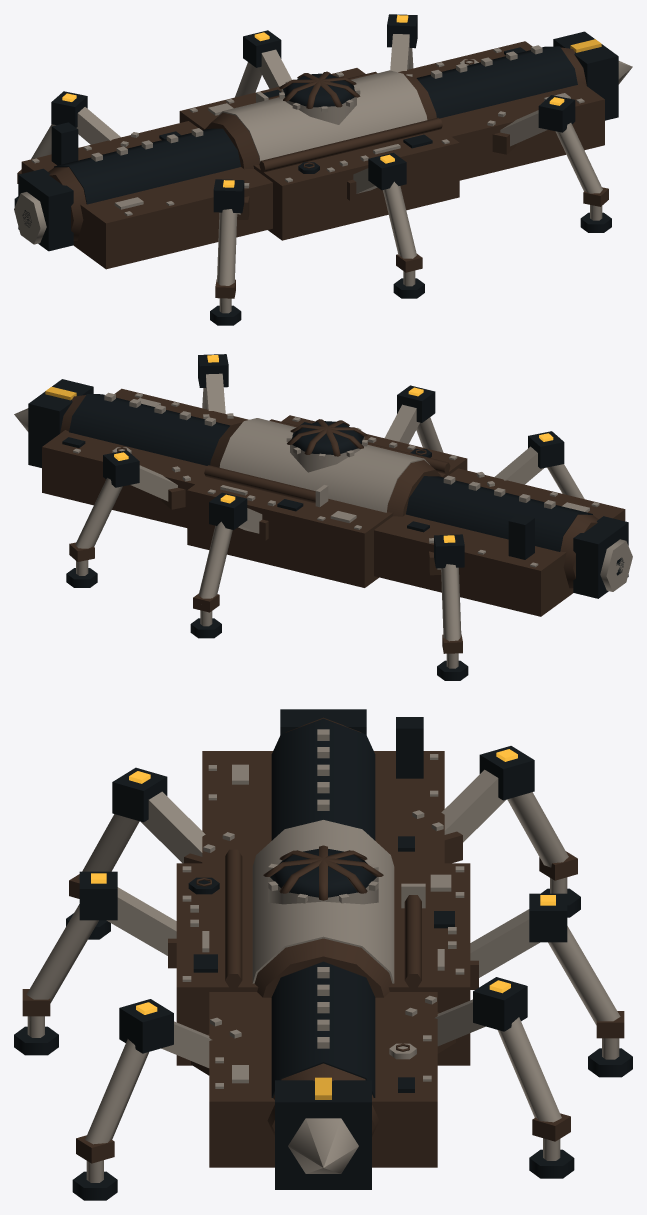
Rendered from acolyte-bathyarch.glb.
3 views of the same model, one above another, from view 1: azimuth 30°, elevation 25°; view 2: azimuth 150°, elevation 25°; view 3: azimuth 270°, elevation 25° (orthographic). The views are drawn at different scales.
Parts seen in each view (by area): view 1: deck_a, deck_m, deck_f, can_1, can_2, can_0, stern_block, bow_block, pipe_s, leg_s2_tibia, leg_s1_tibia, leg_s0_tibia (+21 smaller); view 2: deck_a, deck_m, can_1, deck_f, can_0, can_2, stern_block, bow_block, pipe_p, leg_p1_tibia, leg_p2_tibia, leg_p0_tibia (+23 smaller); view 3: deck_f, deck_m, deck_a, can_1, can_0, can_2, bow_block, can_cap_1f, bow_ram, leg_s0_tibia, leg_p0_tibia, leg_s1_tibia (+28 smaller).
Boxes of the visible parts, <box> form: deck_a: <box>21,121,272,269</box>; deck_m: <box>179,68,459,240</box>; deck_f: <box>398,41,604,180</box>; can_1: <box>216,70,427,161</box>; can_2: <box>54,128,240,204</box>; can_0: <box>416,46,577,118</box>; stern_block: <box>18,168,73,251</box>; bow_block: <box>553,31,618,120</box>; pipe_s: <box>259,117,442,172</box>; leg_s2_tibia: <box>217,209,237,285</box>; leg_s1_tibia: <box>383,181,416,258</box>; leg_s0_tibia: <box>555,123,602,193</box>; deck_a: <box>374,468,625,616</box>; deck_m: <box>187,415,467,587</box>; can_1: <box>219,418,429,512</box>; deck_f: <box>42,388,248,527</box>; can_0: <box>69,394,230,465</box>; can_2: <box>406,476,592,551</box>; stern_block: <box>573,516,628,598</box>; bow_block: <box>28,379,93,467</box>; pipe_p: <box>204,465,315,503</box>; leg_p1_tibia: <box>198,521,232,598</box>; leg_p2_tibia: <box>441,564,461,641</box>; leg_p0_tibia: <box>75,478,122,548</box>; deck_f: <box>209,992,437,1167</box>; deck_m: <box>176,863,470,1065</box>; deck_a: <box>202,751,444,863</box>; can_1: <box>252,820,394,983</box>; can_0: <box>271,961,375,1097</box>; can_2: <box>271,718,375,840</box>; bow_block: <box>275,1080,371,1189</box>; can_cap_1f: <box>254,938,392,997</box>; bow_ram: <box>288,1118,358,1173</box>; leg_s0_tibia: <box>85,1039,148,1144</box>; leg_p0_tibia: <box>497,1017,561,1122</box>; leg_s1_tibia: <box>26,904,98,1003</box>.
Bounding box in the file's own units: 58 × 12.5 × 35.8.
